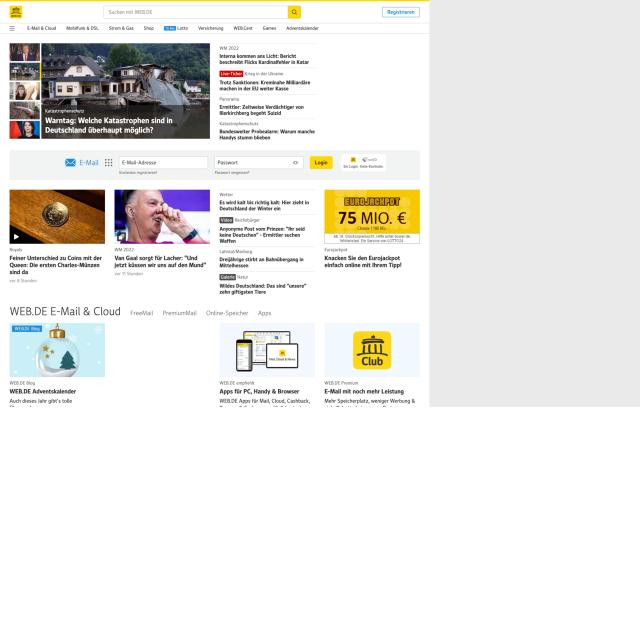input: (103, 5, 301, 18), (214, 156, 304, 169), (119, 156, 208, 168)
logo: (9, 5, 23, 19)
navigation: (25, 25, 321, 32), (130, 309, 274, 317), (9, 26, 15, 32)
video: (9, 189, 105, 244)
